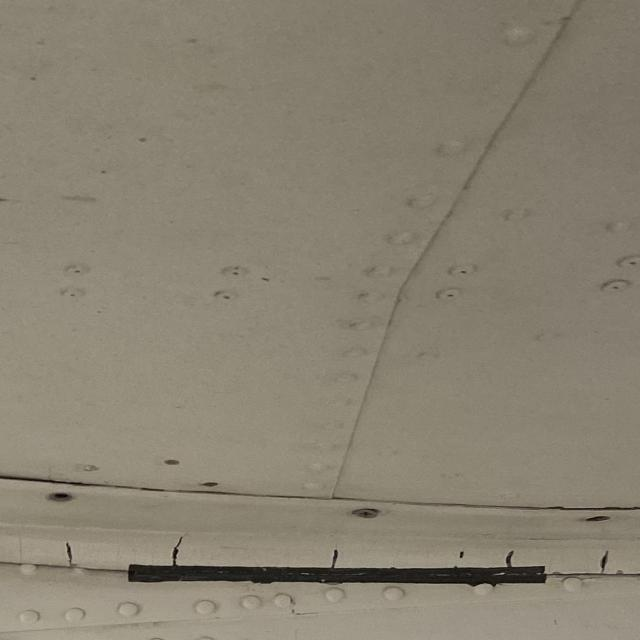Missing-head: (47, 490, 75, 503), (584, 515, 613, 524)
